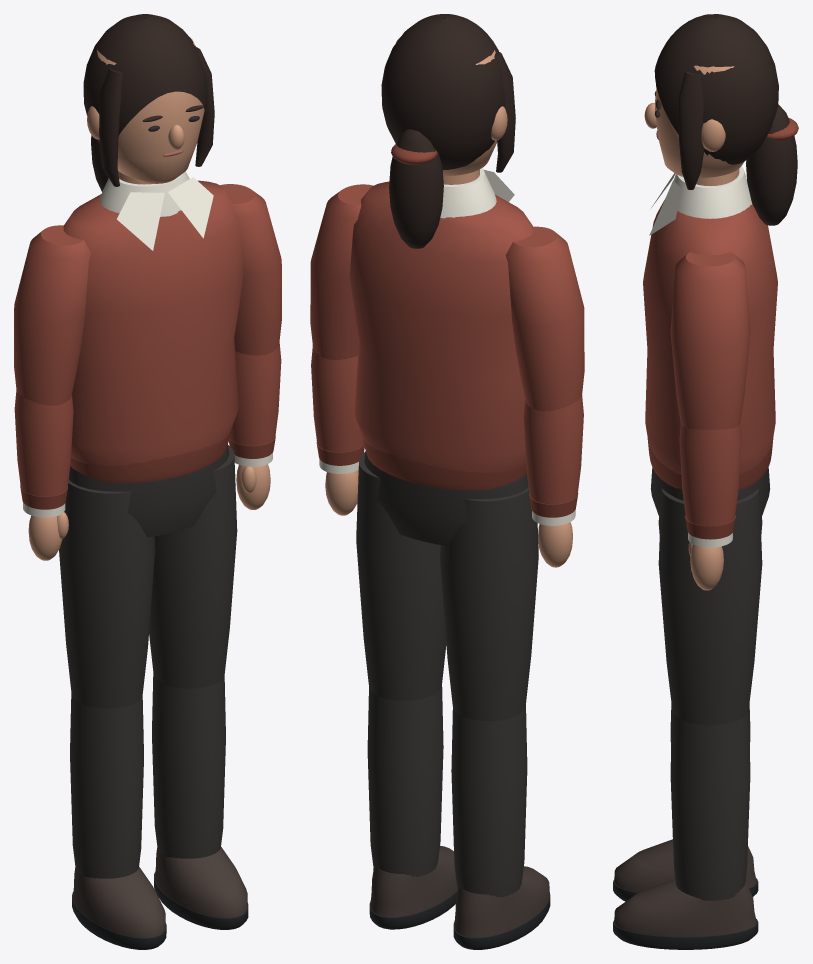
File: knit-woman.glb
3 renders of one model, left to right at view 1: azimuth 30°, elevation 25°; view 2: azimuth 150°, elevation 25°; view 3: azimuth 270°, elevation 25°, orthographic. The views are drawn at different scales.
Parts seen in each view (by area): view 1: pullover, trouser thigh, trouser thigh.001, trouser calf.001, trouser calf, sweater sleeve, parted hair, sweater sleeve.001, face, hip, forearm sleeve, shoe leather.001 (+14 smaller); view 2: pullover, trouser thigh, trouser thigh.001, parted hair, trouser calf.001, trouser calf, sweater sleeve, sweater sleeve.001, hip, forearm sleeve, low ponytail, forearm sleeve.001 (+12 smaller); view 3: trouser thigh.001, pullover, trouser calf.001, sweater sleeve.001, parted hair, shoe leather.001, forearm sleeve.001, low ponytail, face framing lock.001, shoe leather, shirt collar stand, face (+7 smaller).
Part boxes in pixels (x1,y1,x2,y2): pullover: [63, 180, 243, 465]; trouser thigh: [59, 479, 155, 708]; trouser thigh.001: [149, 445, 237, 688]; trouser calf.001: [152, 673, 225, 858]; trouser calf: [70, 693, 143, 878]; sweater sleeve: [14, 225, 90, 405]; parted hair: [83, 14, 207, 142]; sweater sleeve.001: [220, 184, 281, 355]; face: [97, 37, 204, 183]; hip: [68, 444, 229, 537]; forearm sleeve: [14, 390, 73, 496]; shoe leather.001: [155, 846, 247, 918]; pullover: [349, 181, 533, 473]; trouser thigh: [440, 487, 538, 721]; trouser thigh.001: [356, 451, 446, 700]; parted hair: [381, 14, 505, 170]; trouser calf.001: [367, 685, 443, 876]; trouser calf: [451, 705, 527, 897]; sweater sleeve: [505, 226, 584, 411]; sweater sleeve.001: [310, 184, 373, 359]; hip: [364, 451, 528, 545]; forearm sleeve: [523, 395, 583, 504]; low ponytail: [389, 129, 443, 248]; forearm sleeve.001: [311, 345, 364, 452]; trouser thigh.001: [658, 488, 762, 725]; pullover: [643, 200, 777, 474]; trouser calf.001: [670, 711, 750, 900]; sweater sleeve.001: [670, 252, 750, 429]; parted hair: [654, 14, 778, 164]; shoe leather.001: [614, 879, 756, 937]; forearm sleeve.001: [679, 423, 741, 526]; low ponytail: [746, 104, 797, 225]; face framing lock.001: [678, 71, 704, 189]; shoe leather: [614, 839, 756, 892]; shirt collar stand: [673, 166, 752, 218]; face: [654, 65, 744, 178].
Size of the model in its own units: 0.5095 by 1.67 by 0.3135.
